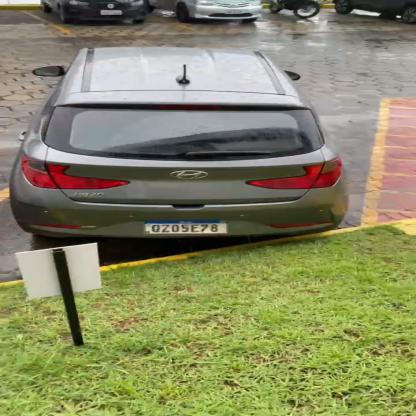Plate: (140, 219, 236, 240)
